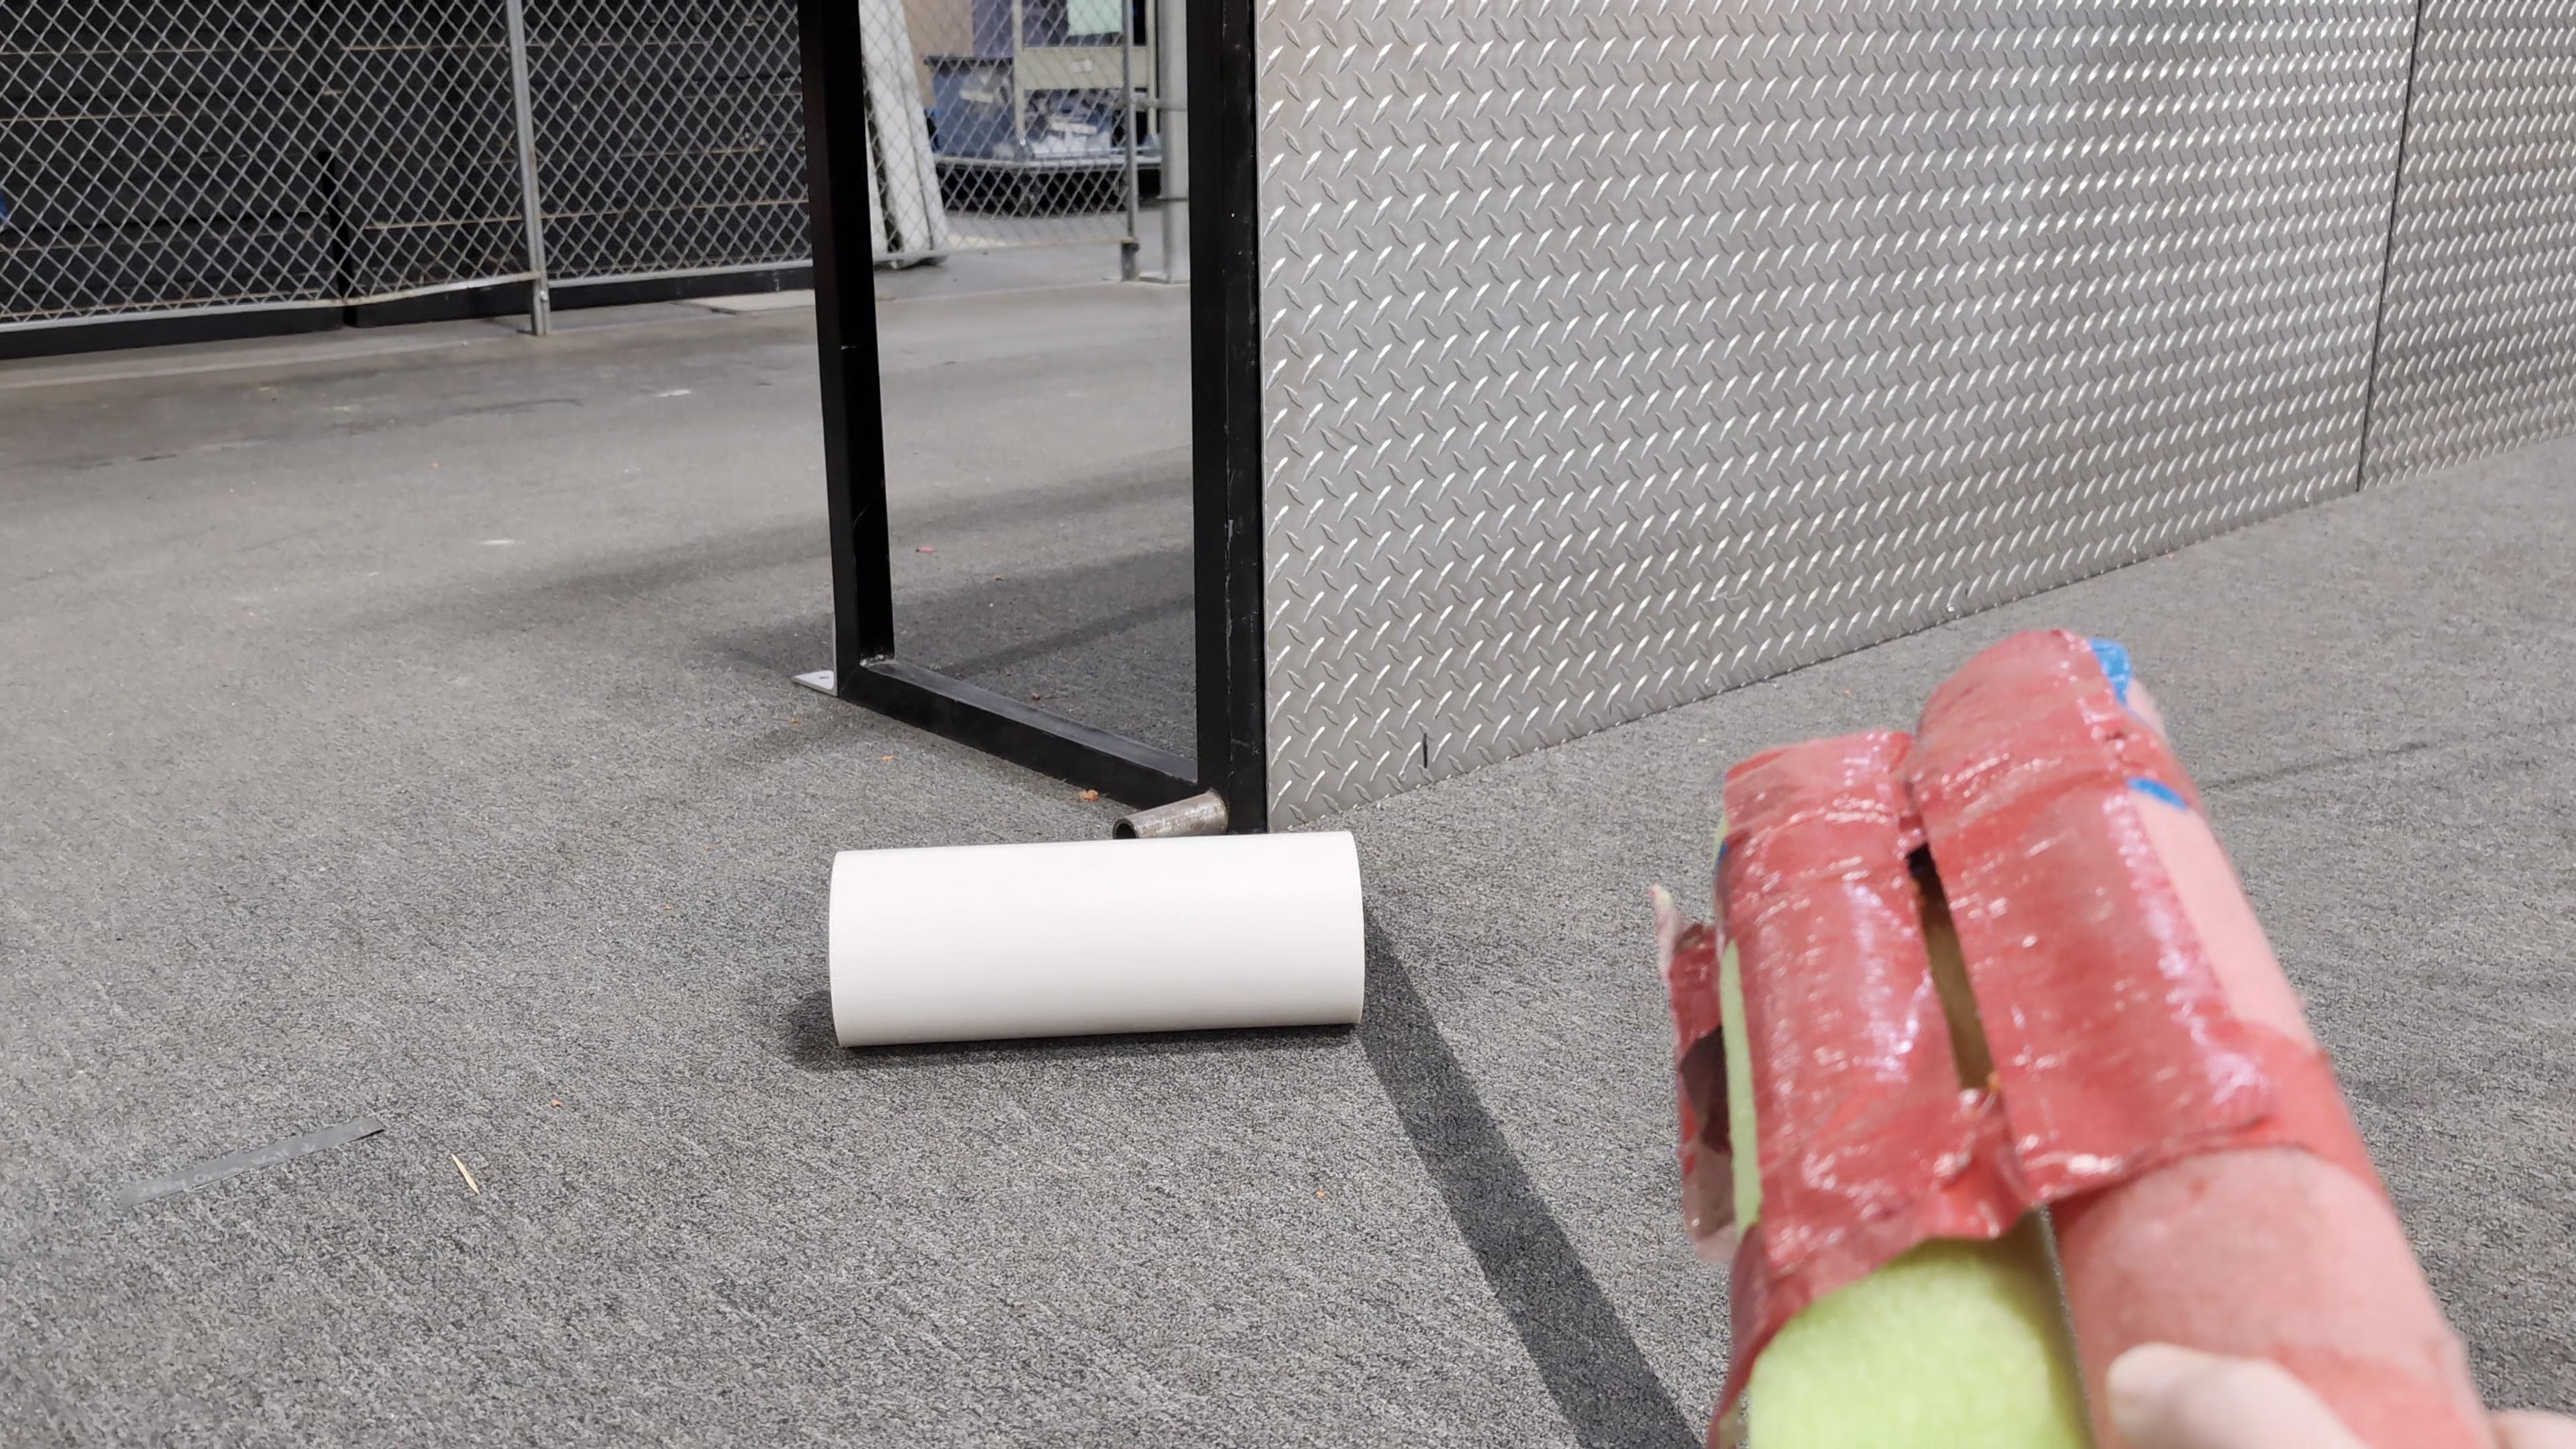coral: (824, 824, 1368, 1049)
